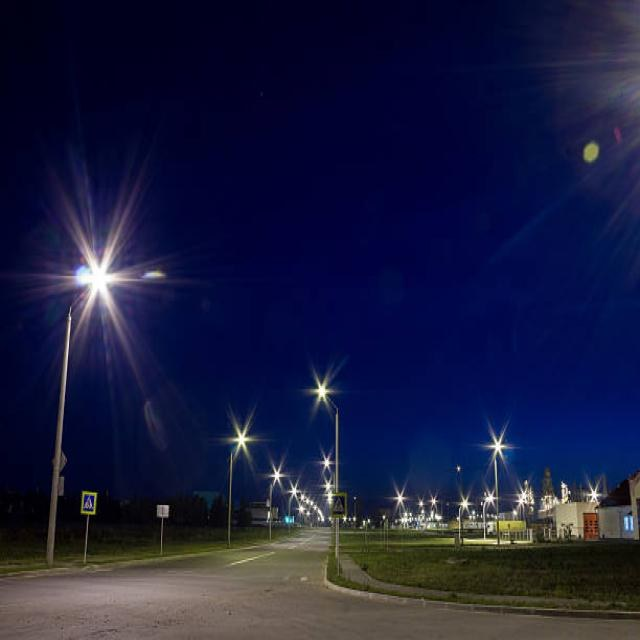acesa: (65, 235, 133, 310), (222, 408, 262, 462), (480, 422, 516, 464), (309, 376, 336, 410)
